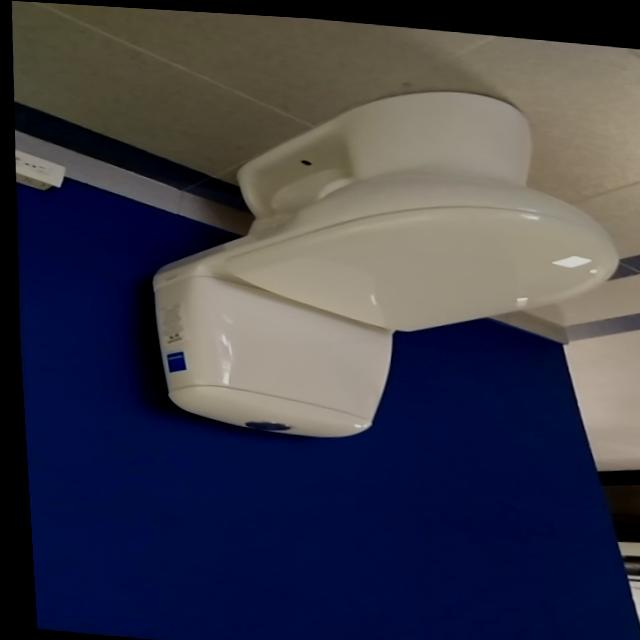toilet: (132, 60, 632, 460)
